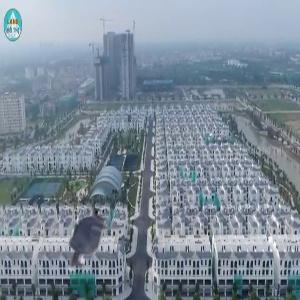drone: (39, 187, 140, 288)
